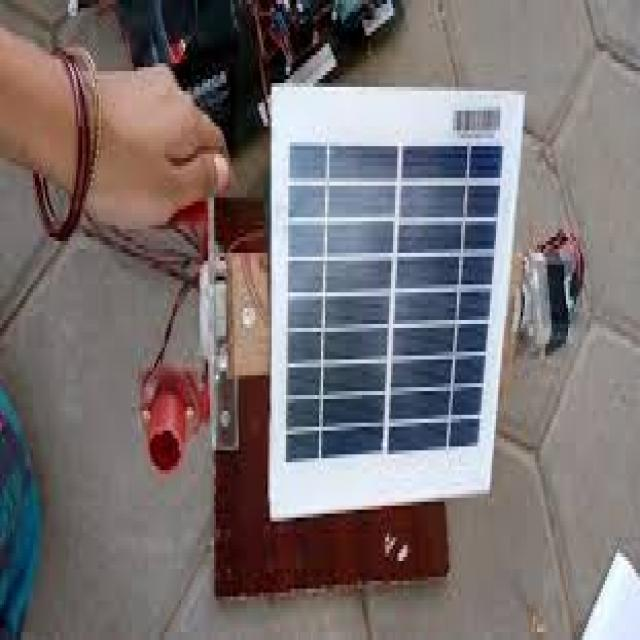no faulty: (292, 137, 493, 479)
